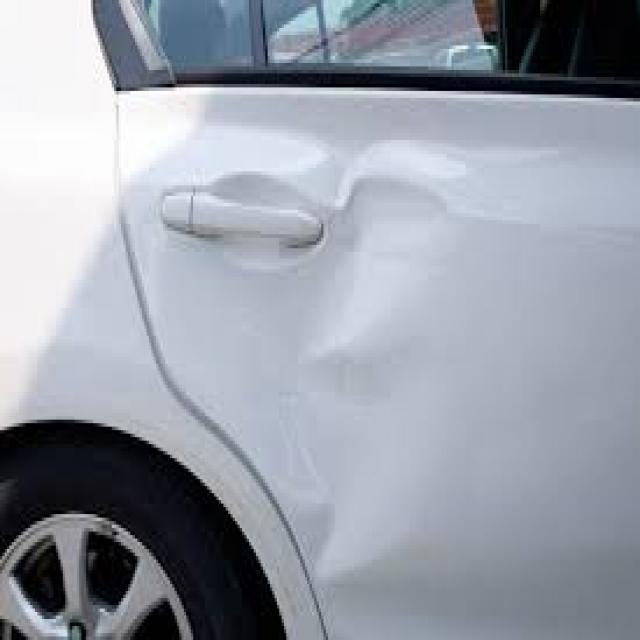minor: (254, 124, 475, 225)
